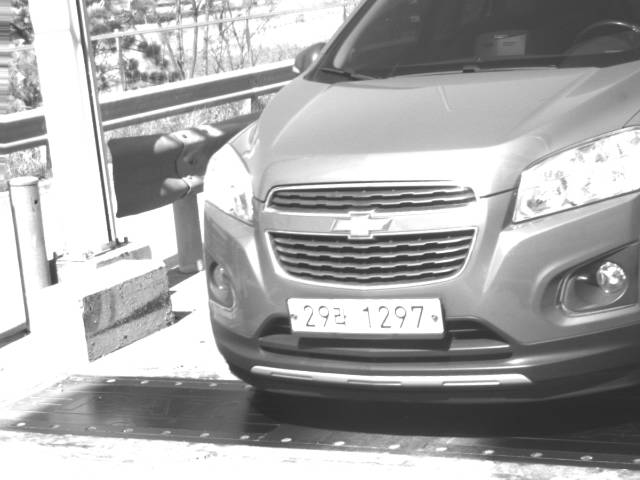car: (200, 1, 639, 408)
plate: (285, 296, 445, 335)
